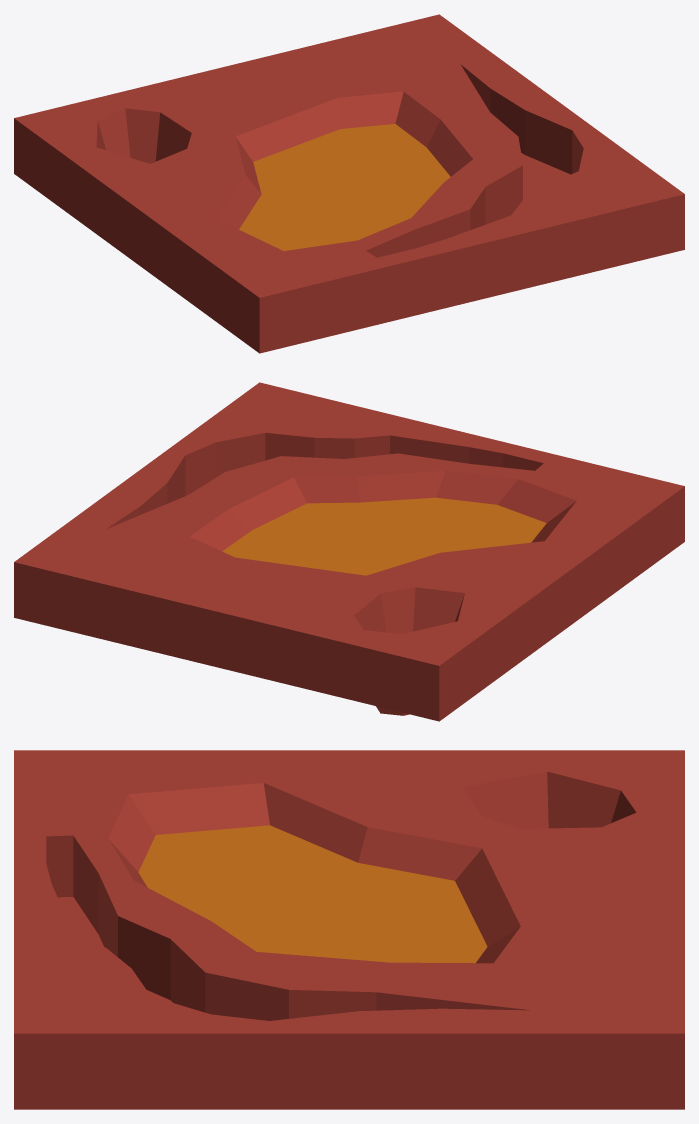
The model's file is Field_4_digged.fbx.
The picture shows the model from 3 angles, top to bottom: view 1: azimuth 30°, elevation 25°; view 2: azimuth 150°, elevation 25°; view 3: azimuth 270°, elevation 25°; orthographic projection. The views are drawn at different scales.
Visible parts, largest first — view 1: Plane.018; view 2: Plane.018; view 3: Plane.018.
Part boxes in pixels (bbox=[...]): Plane.018: bbox=[14, 14, 684, 353]; Plane.018: bbox=[14, 382, 684, 721]; Plane.018: bbox=[14, 750, 684, 1109].
Bounding box in the file's own units: 400 × 81.94 × 400.
